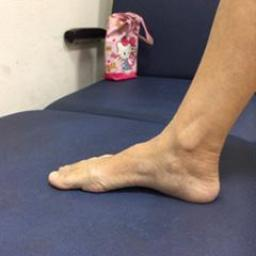Medial View -Right Foot-: (40, 99, 237, 207)
